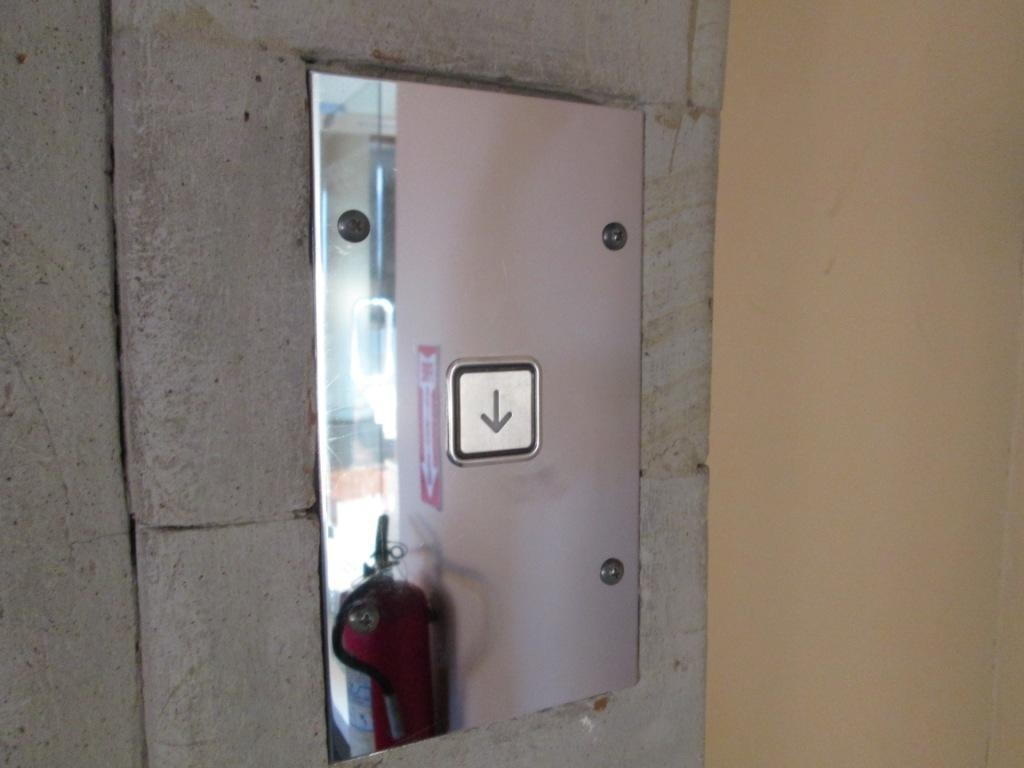down: (442, 355, 542, 468)
